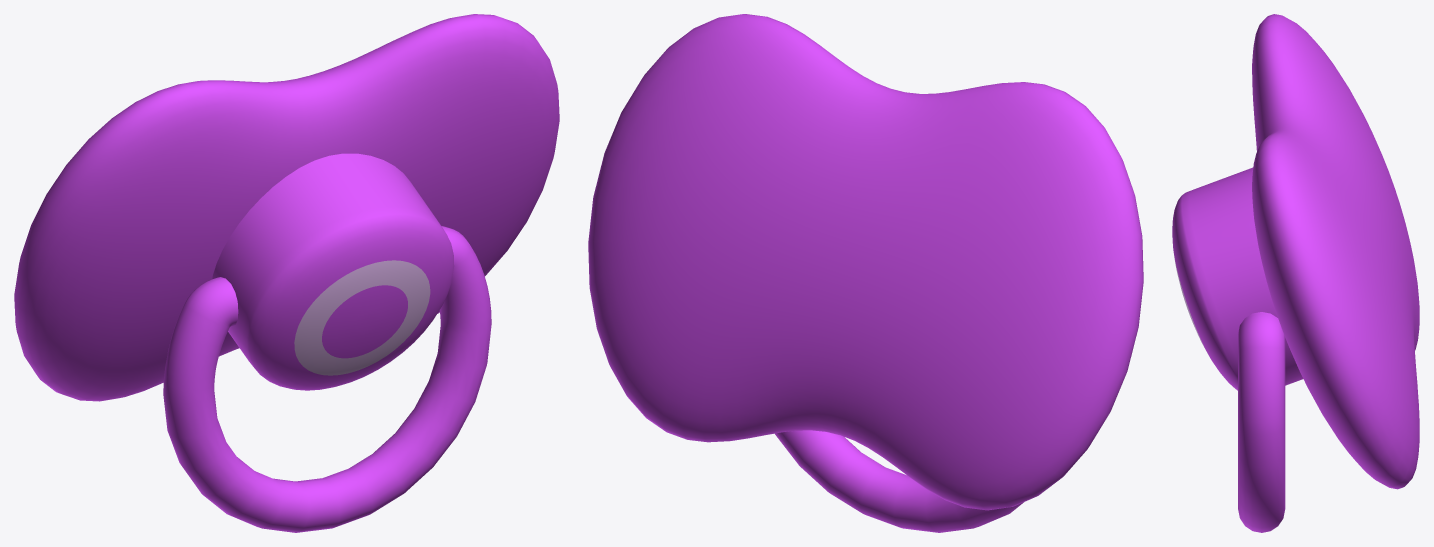
Rendered from tetine.glb.
3 views of the same model, side by side, from view 1: azimuth 30°, elevation 25°; view 2: azimuth 150°, elevation 25°; view 3: azimuth 270°, elevation 25° (orthographic). The views are drawn at different scales.
Parts seen in each view (by area): view 1: Rectangle001; view 2: Rectangle001; view 3: Rectangle001.
Part boxes in pixels (left/top/right/bottom): Rectangle001: left=14, top=14, right=559, bottom=532; Rectangle001: left=588, top=14, right=1143, bottom=532; Rectangle001: left=1172, top=14, right=1419, bottom=532.
Bounding box in the file's own units: 0.6038 × 0.5132 × 0.2667.
